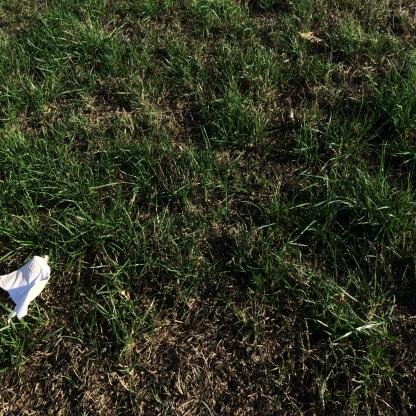trash: (0, 252, 54, 324)
